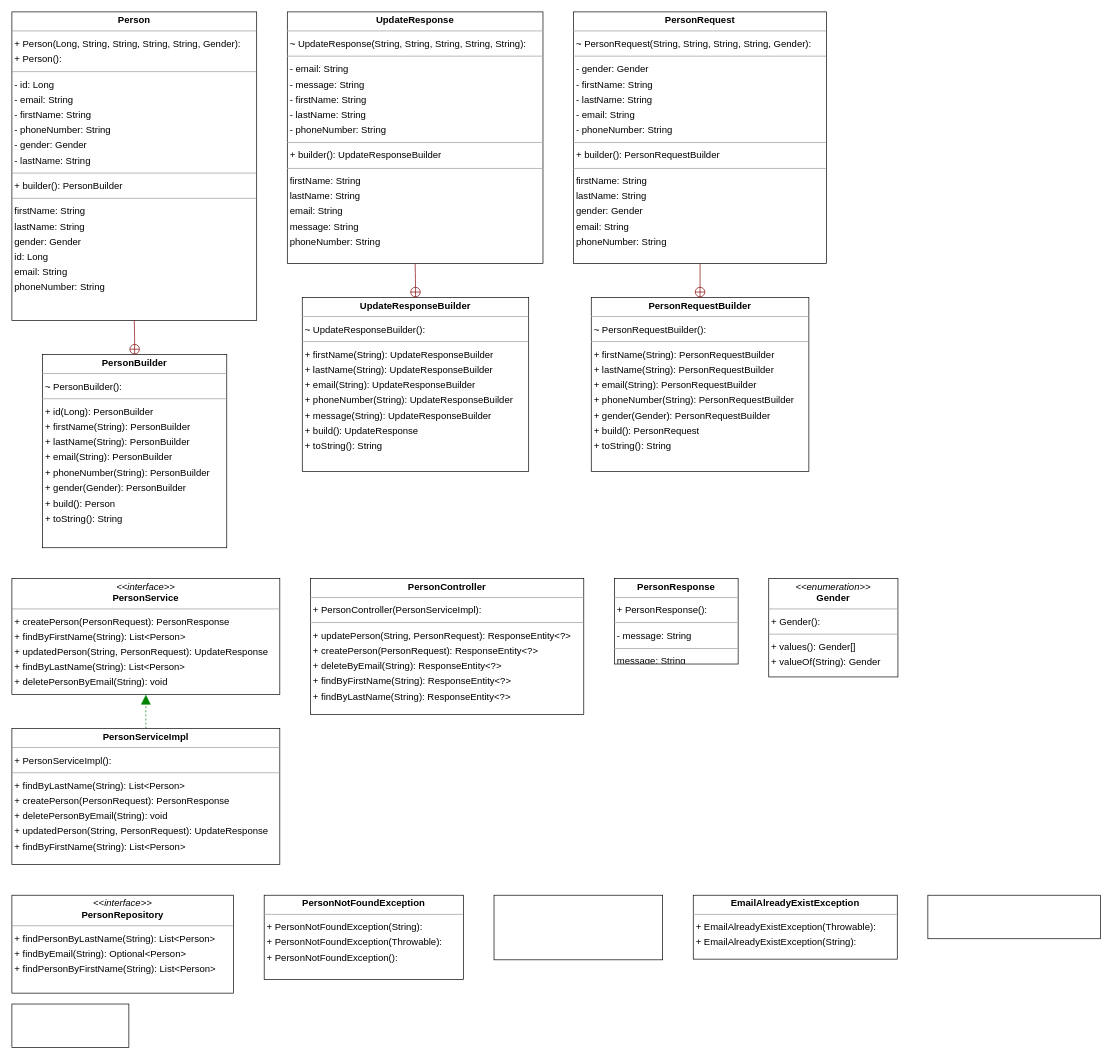
Image size: 1112x1059. Some labels were removed from this diagram. Each missing label, with the centre of its shape:
"EmailNotFoundException + EmailNotFoundException(String):" goes at point 1014,917.
"UpdateRequest + UpdateRequest():" goes at point 70,1025.
"ZuriStageTwoApplication + ZuriStageTwoApplication(): + main(String[]): void" goes at point 578,927.
